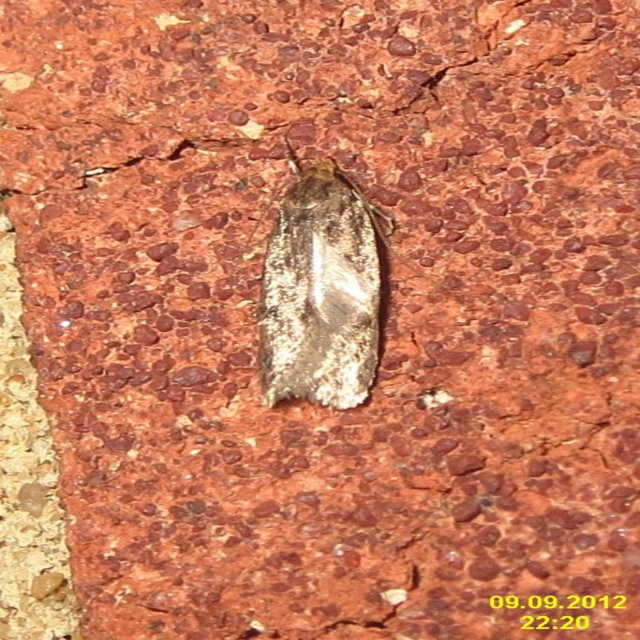Moths and butterflies: (234, 156, 443, 411)
